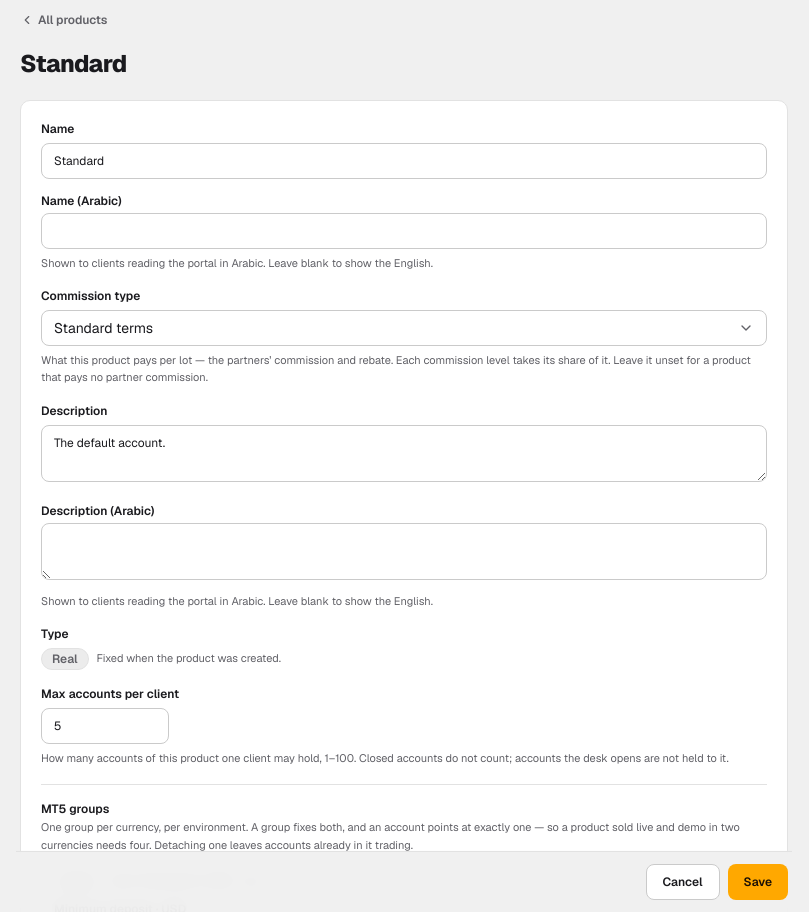
Scenario: attaching MT5 groups on the product form › refuses a cap outside 1–100 under the box, sending nothing
Replace the text in the field labelled "Max accounts per client" with "0": [105, 726] box [41, 708, 169, 744]
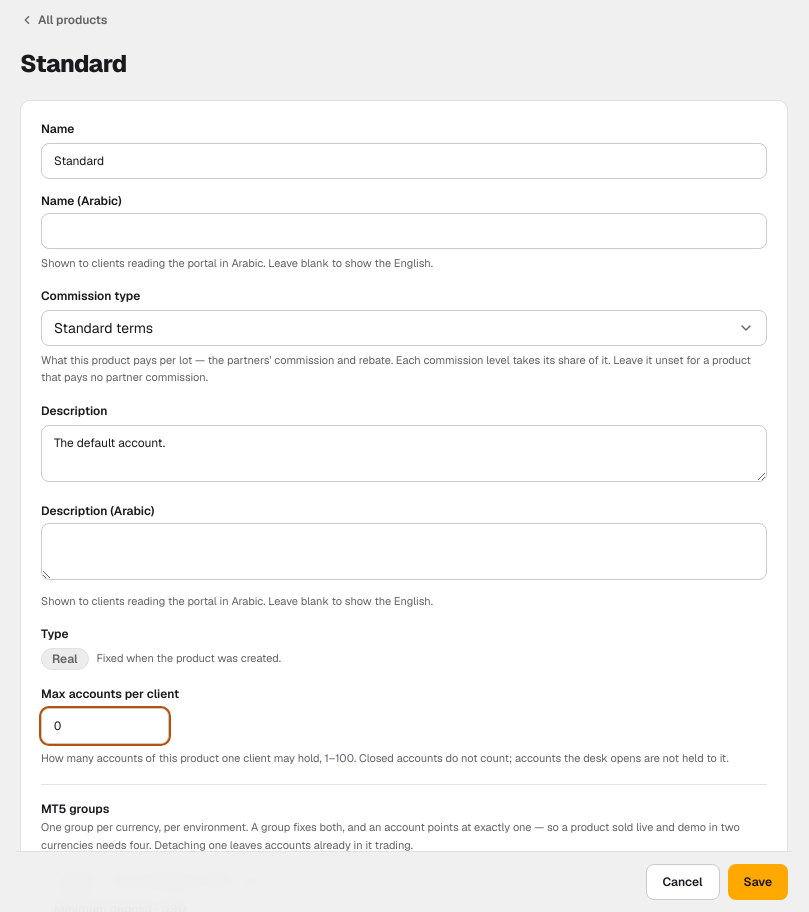
Click the button "Save": [758, 882] box [728, 864, 788, 900]
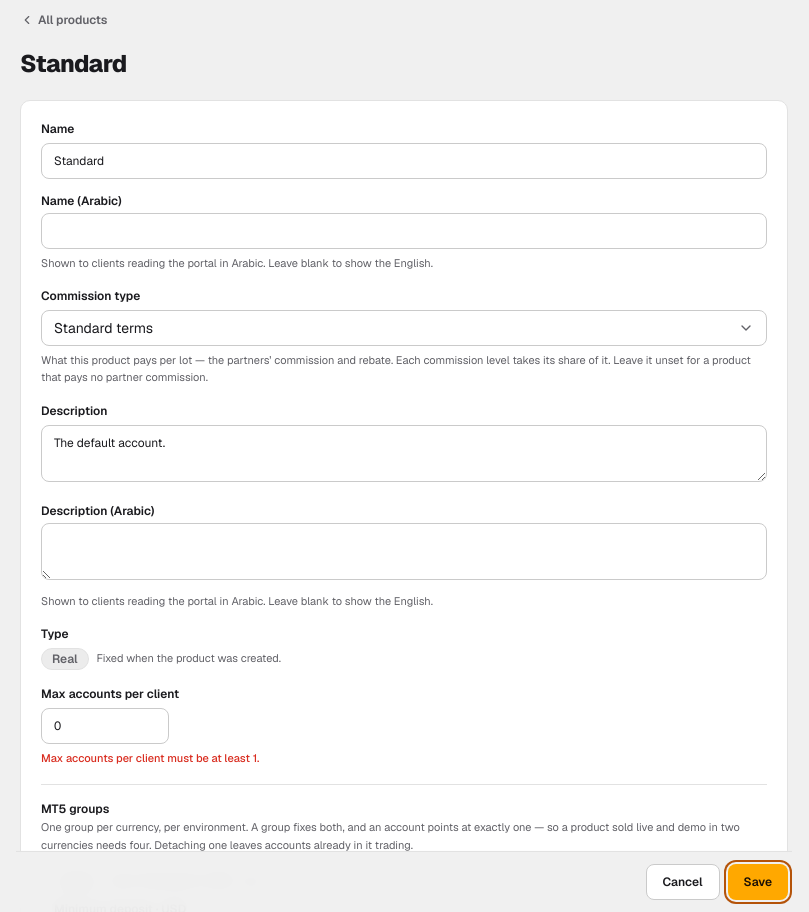
Check: the text "Max accounts per client must be at least 1." is shown, box [41, 751, 260, 765]
